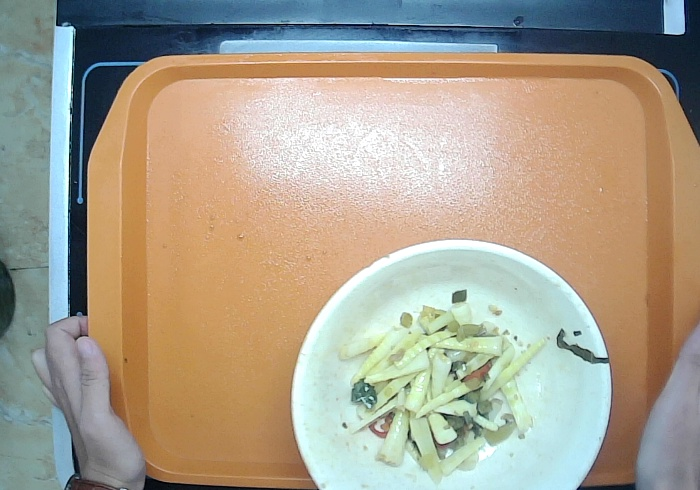ZNLD-Da_Tang_Wan: (288, 234, 617, 490)
